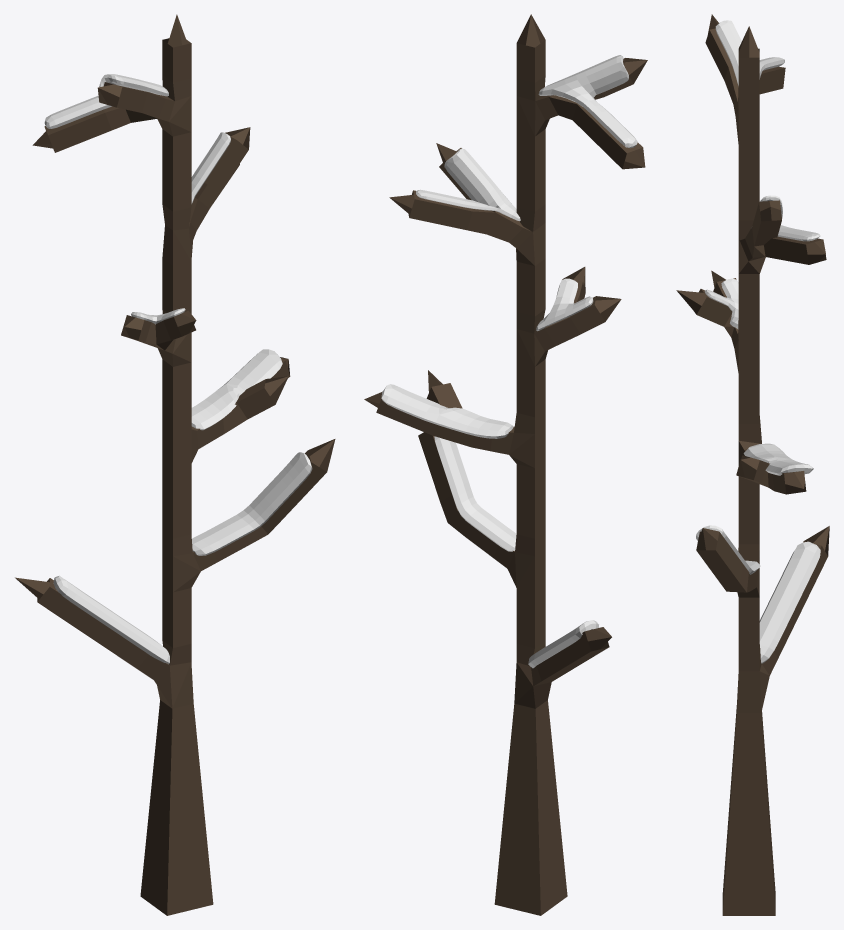
The model's file is dead_tree.fbx.
The picture shows the model from 3 angles, left to right: view 1: azimuth 30°, elevation 25°; view 2: azimuth 150°, elevation 25°; view 3: azimuth 270°, elevation 25°; orthographic projection.
Parts seen in each view (by area): view 1: Cube, Cube.002; view 2: Cube, Cube.002; view 3: Cube, Cube.002.
Part boxes in pixels (x1,y1,x2,y2): Cube: (15,14,335,915); Cube.002: (44,74,312,664); Cube: (364,14,647,915); Cube.002: (381,55,637,668); Cube: (676,14,829,915); Cube.002: (696,20,820,663).
Size of the model in its own units: 289 by 909 by 144.
